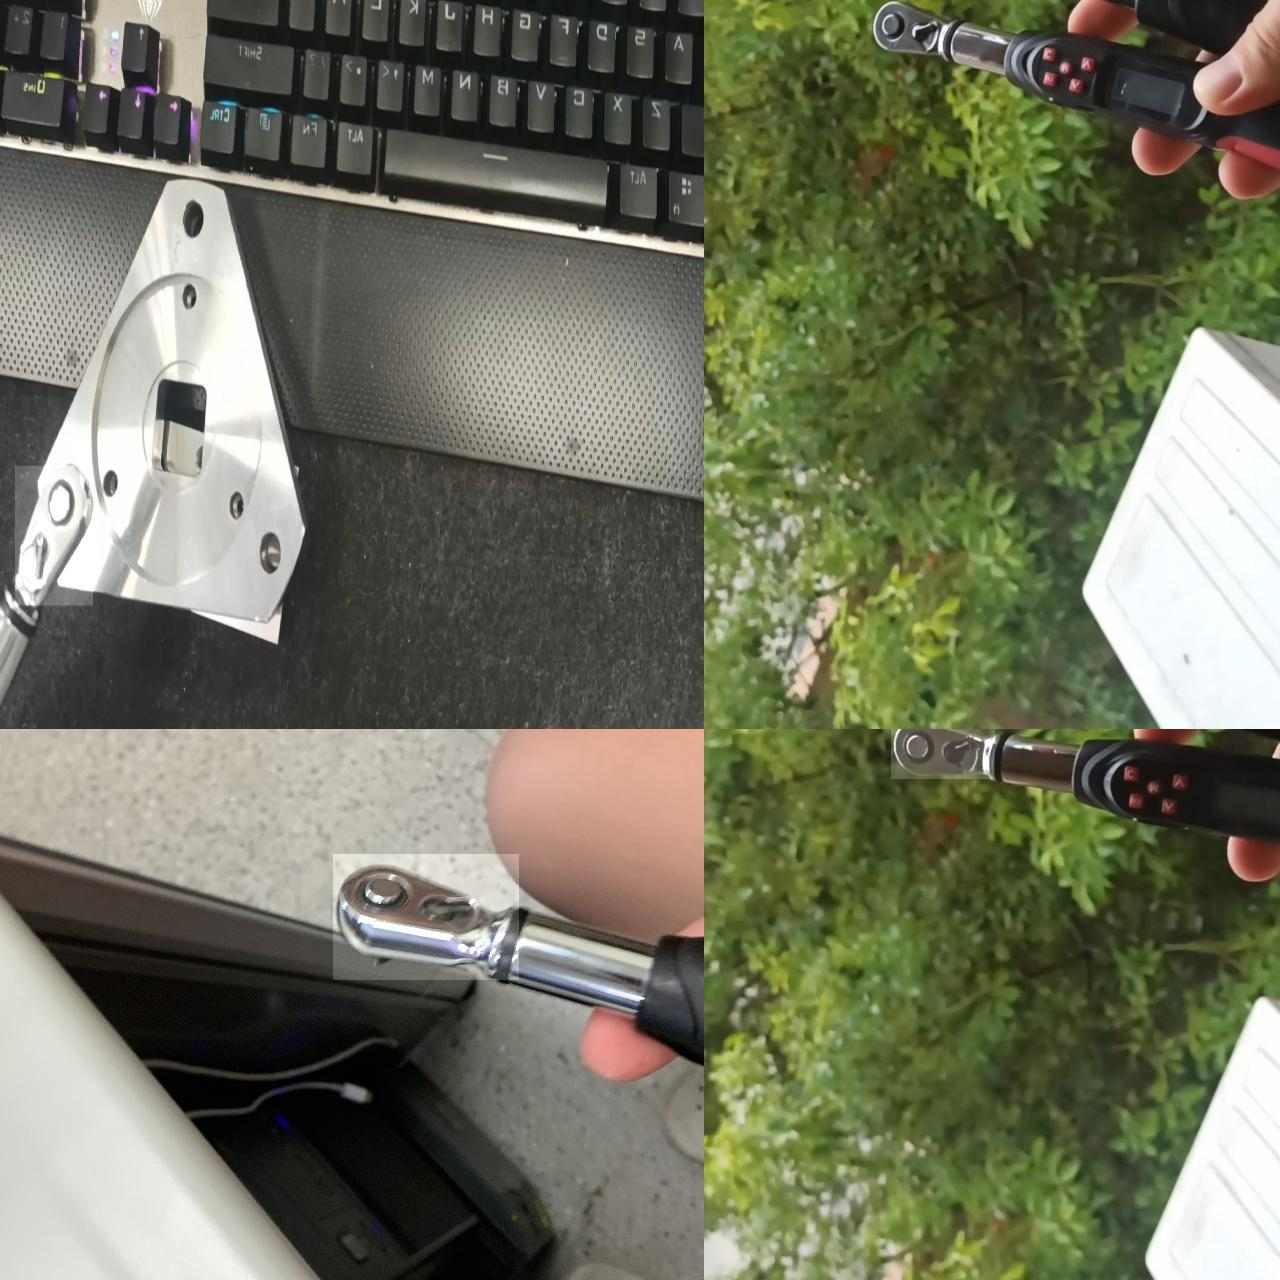Tool: (333, 855, 519, 980), (15, 465, 93, 606), (891, 729, 995, 779), (873, 0, 951, 55)
